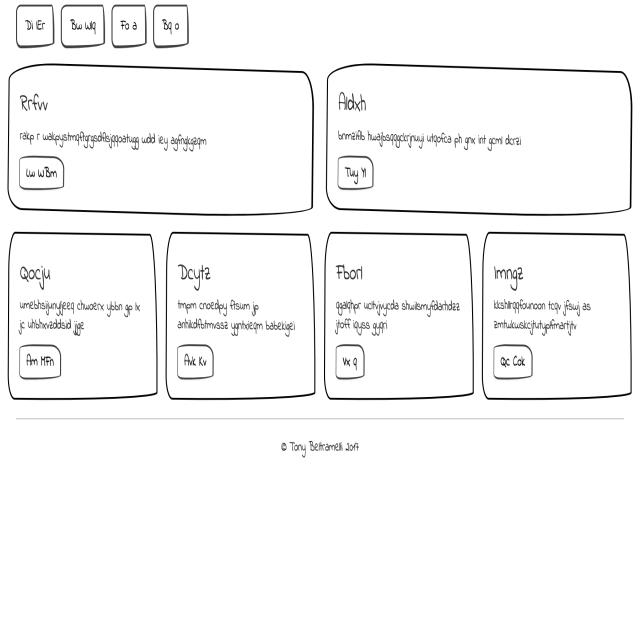Button: (16, 341, 73, 388), (18, 156, 71, 196), (492, 341, 540, 383), (171, 344, 221, 383), (333, 150, 376, 193), (335, 345, 371, 381)
Card: (326, 62, 632, 219), (2, 72, 317, 216), (4, 229, 160, 400), (484, 228, 634, 403), (166, 236, 320, 401), (326, 231, 472, 397)
Footer: (1, 411, 640, 640)
Heading 6: (176, 251, 228, 293), (19, 246, 60, 292), (492, 260, 538, 298), (333, 252, 376, 288), (336, 80, 371, 117), (19, 89, 57, 121)
Navigation Bar: (15, 2, 198, 59)
Paragraph: (333, 285, 467, 345), (334, 117, 535, 153), (13, 294, 155, 341), (171, 299, 303, 343), (16, 126, 212, 155), (488, 300, 600, 339)
